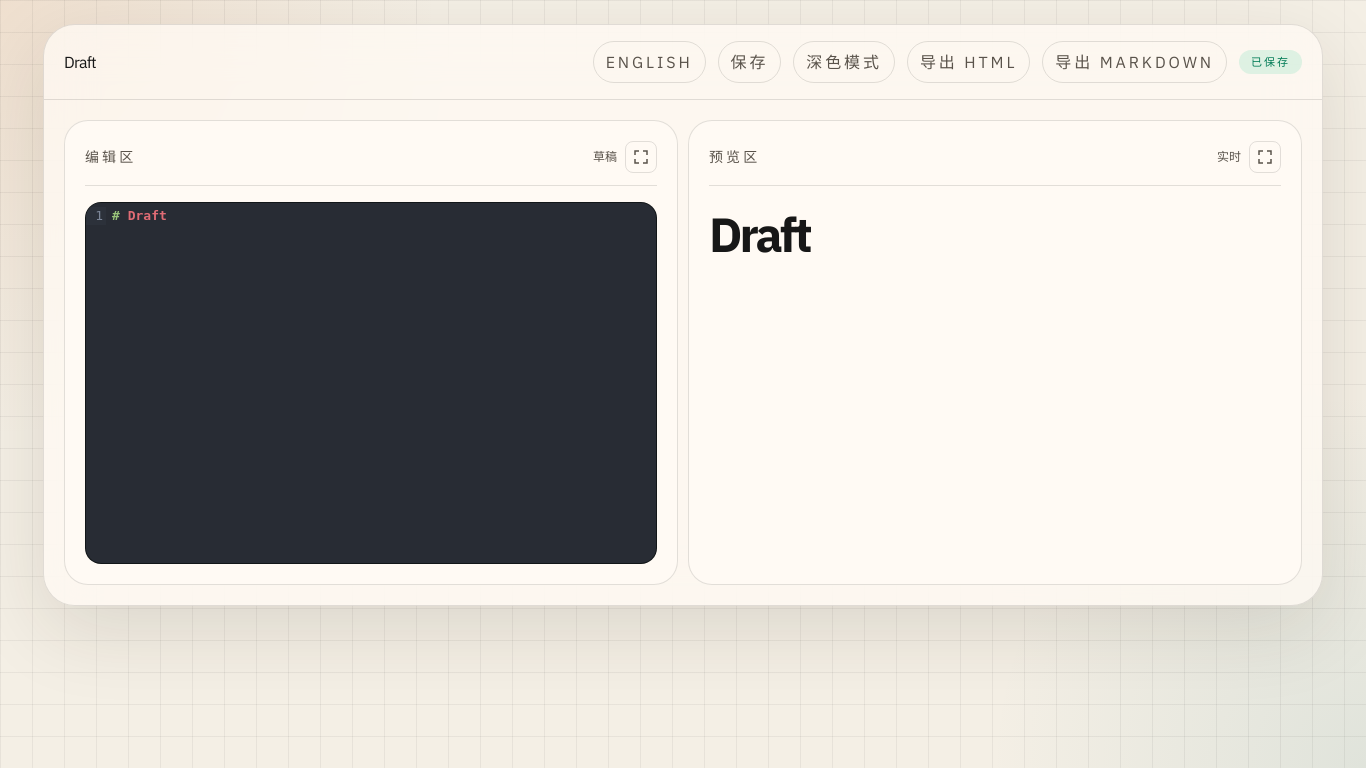
Scenario: fullscreen modes › supports editor fullscreen mode
Click the button named "编辑区全屏": [641, 157] box [625, 141, 657, 173]
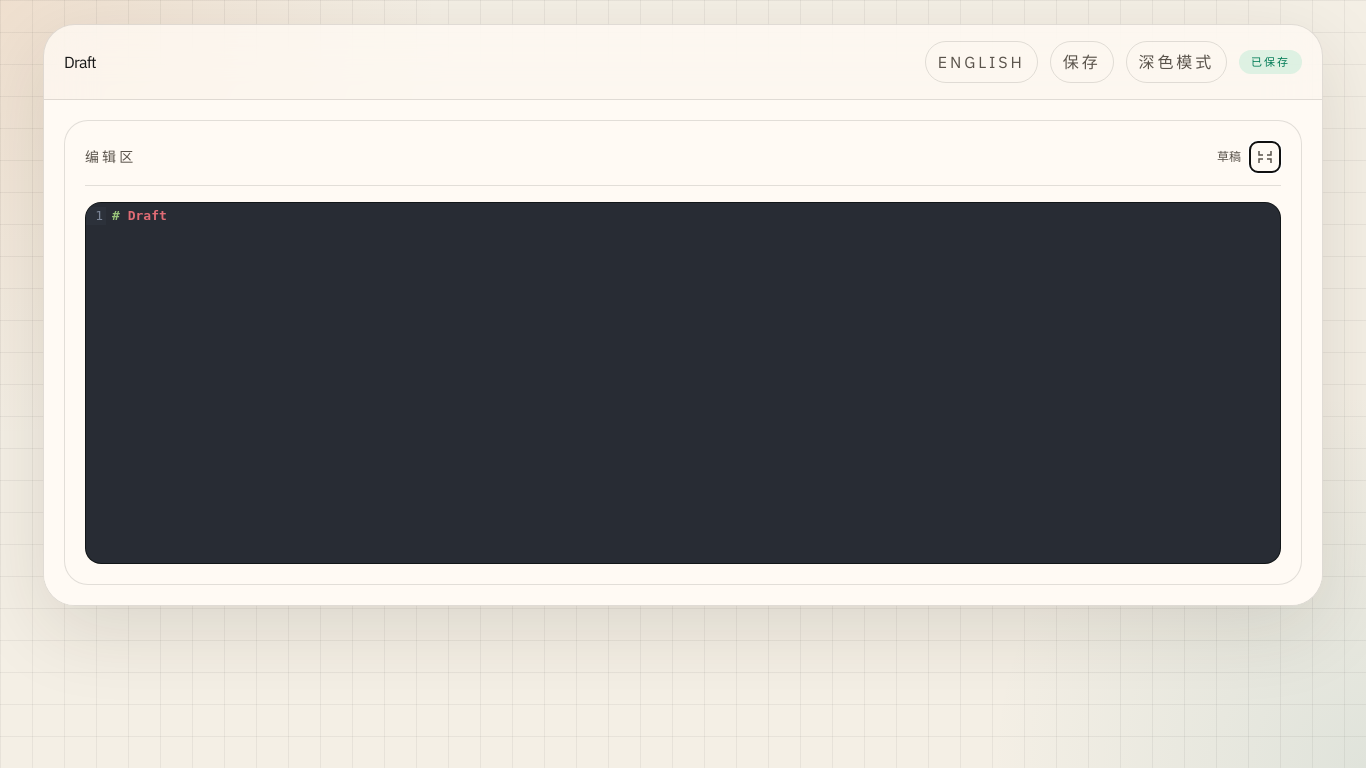
Now the heading "预览区" is gone
Now the button "导出 Markdown" is gone
Now the button named "退出全屏" is shown, box [1249, 141, 1281, 173]
Press Escape
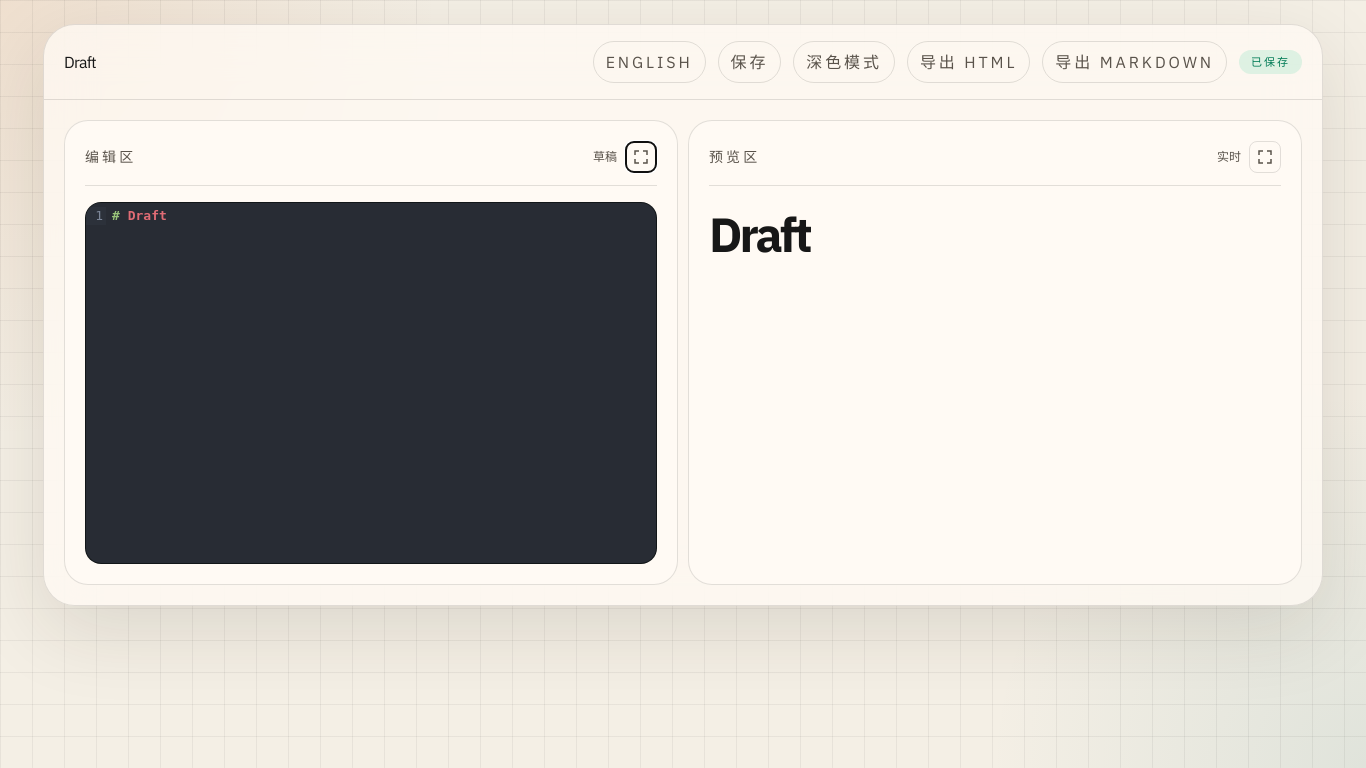
Now the heading "预览区" is shown, box [709, 147, 760, 167]
Now the button "导出 Markdown" is shown, box [1042, 41, 1227, 83]
